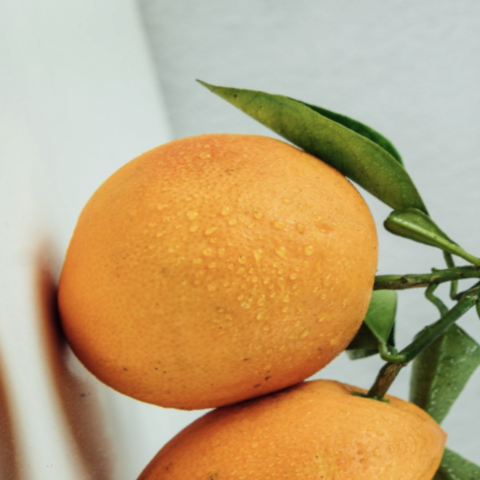orange: (0, 63, 451, 473)
